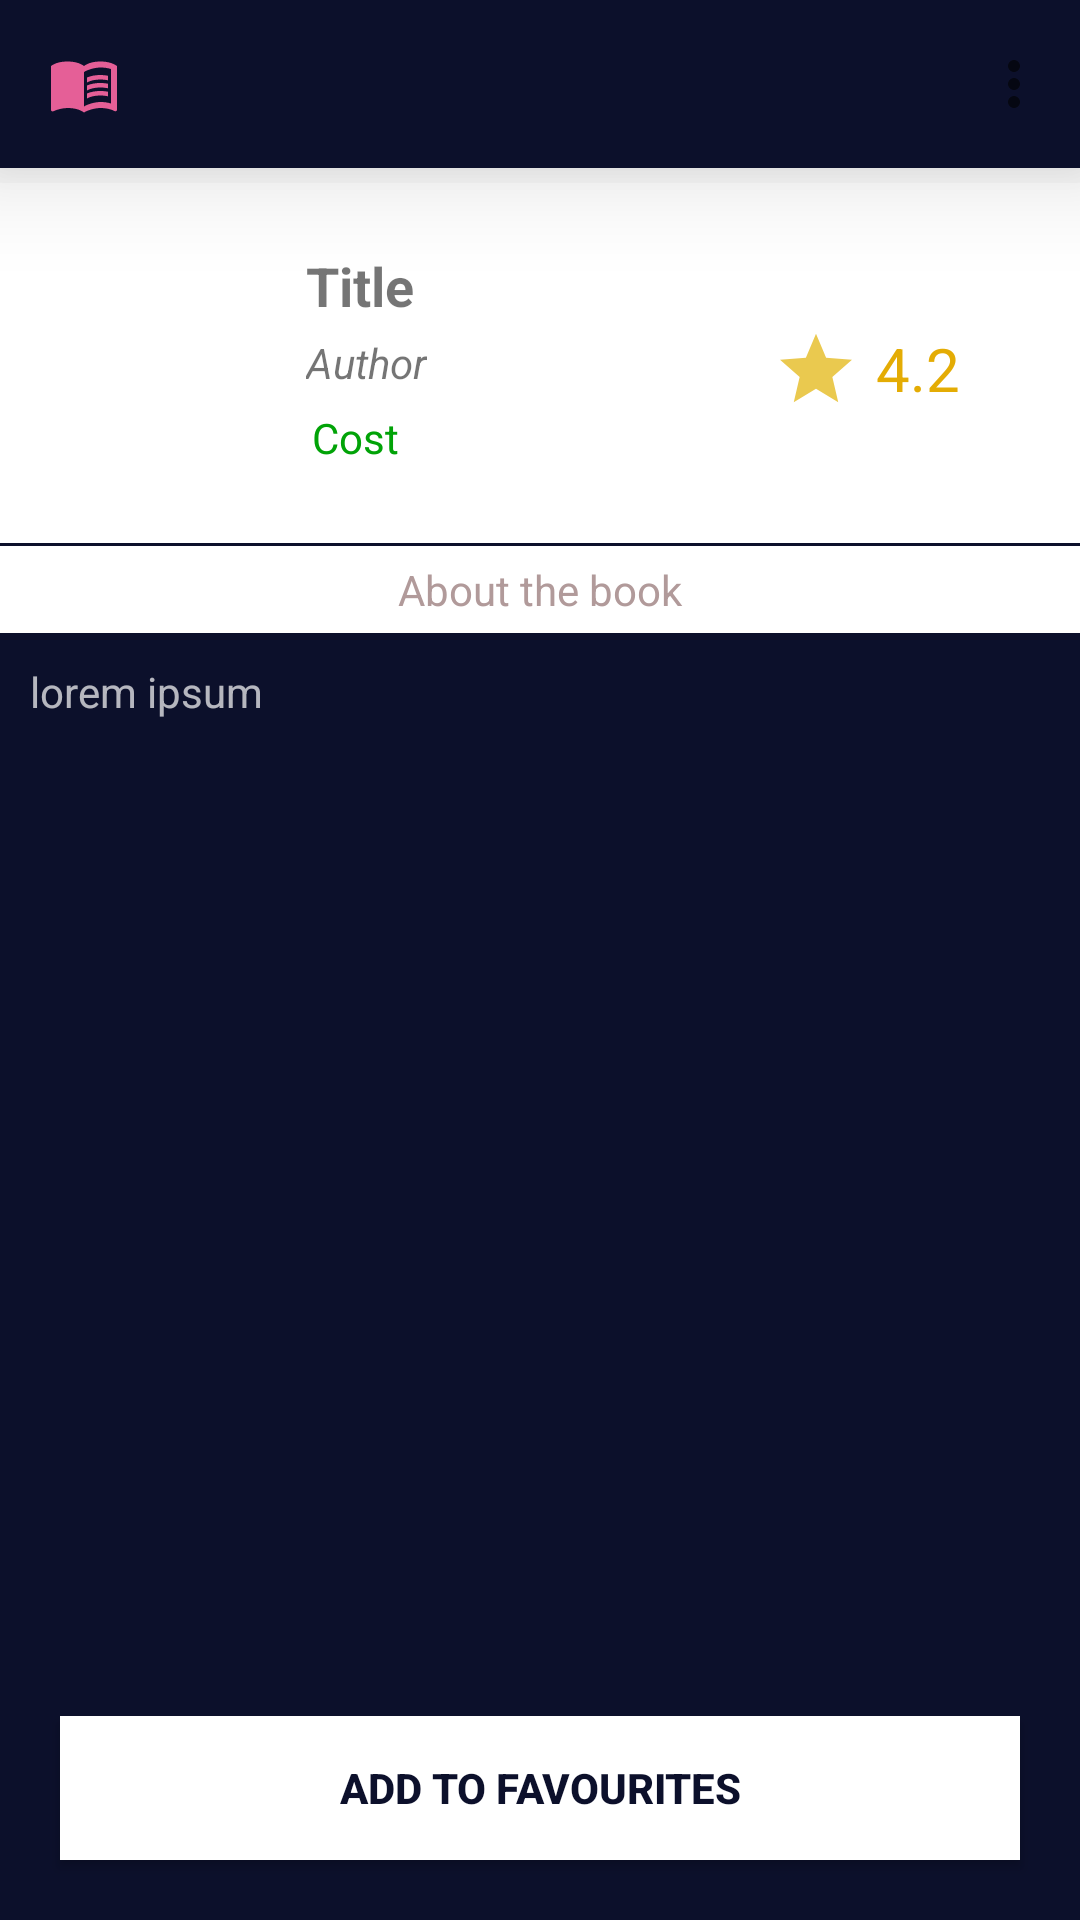

Where to tap for icons on this 1080 × 1920 app screen, as point (x, y):
Rating: point (816, 368)
